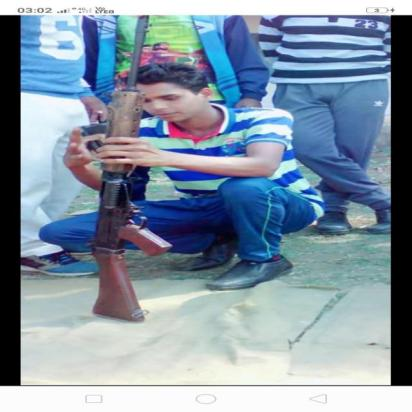Gun: (84, 15, 176, 326)
